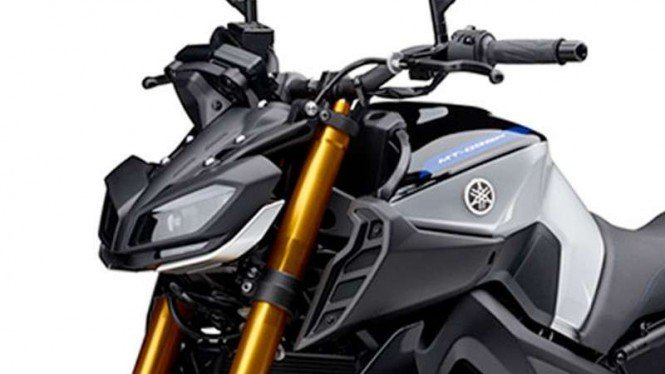motor: (80, 34, 665, 374)
